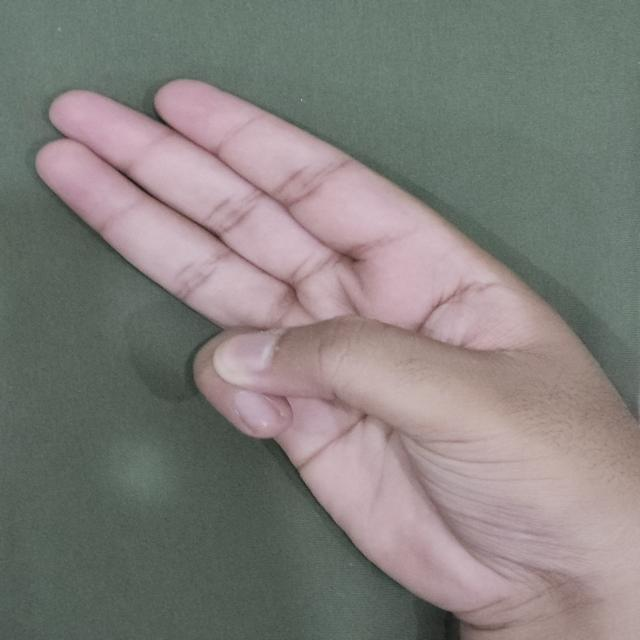ٹ: (28, 33, 640, 640)
